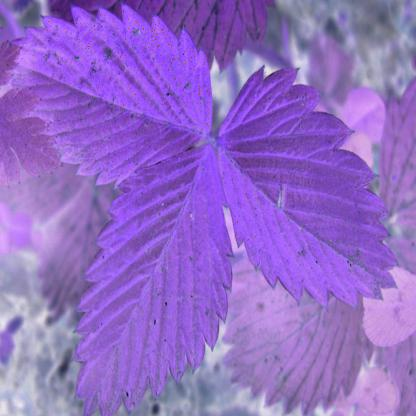Strawberry leaf: (220, 62, 399, 313), (69, 144, 230, 413), (15, 2, 215, 183)
